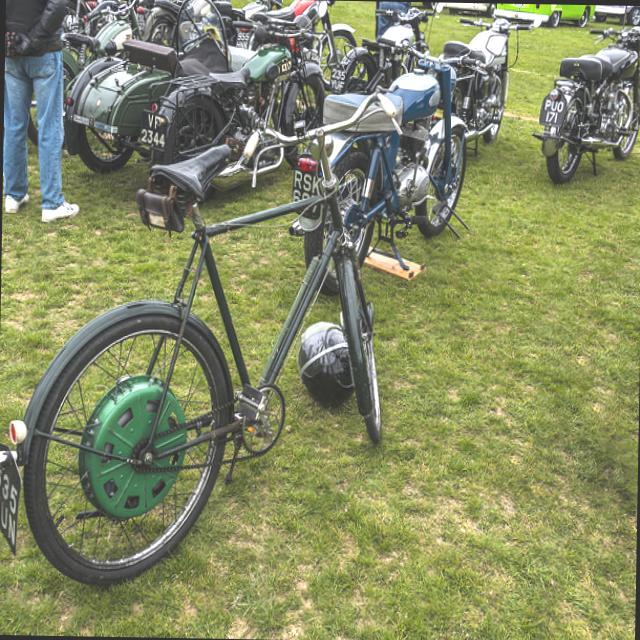Vehicle: (314, 41, 478, 278), (59, 0, 235, 182), (143, 12, 336, 169), (531, 20, 640, 184), (440, 9, 535, 140), (230, 0, 356, 79), (332, 4, 432, 89), (134, 0, 221, 44), (196, 0, 284, 38), (494, 3, 590, 28), (248, 0, 321, 19), (589, 5, 640, 23), (441, 2, 499, 17)
